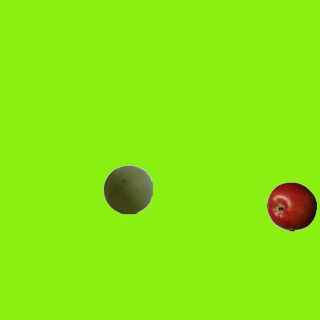Apple Braeburn: (266, 181, 316, 231)
Grape White 4: (102, 164, 152, 214)
